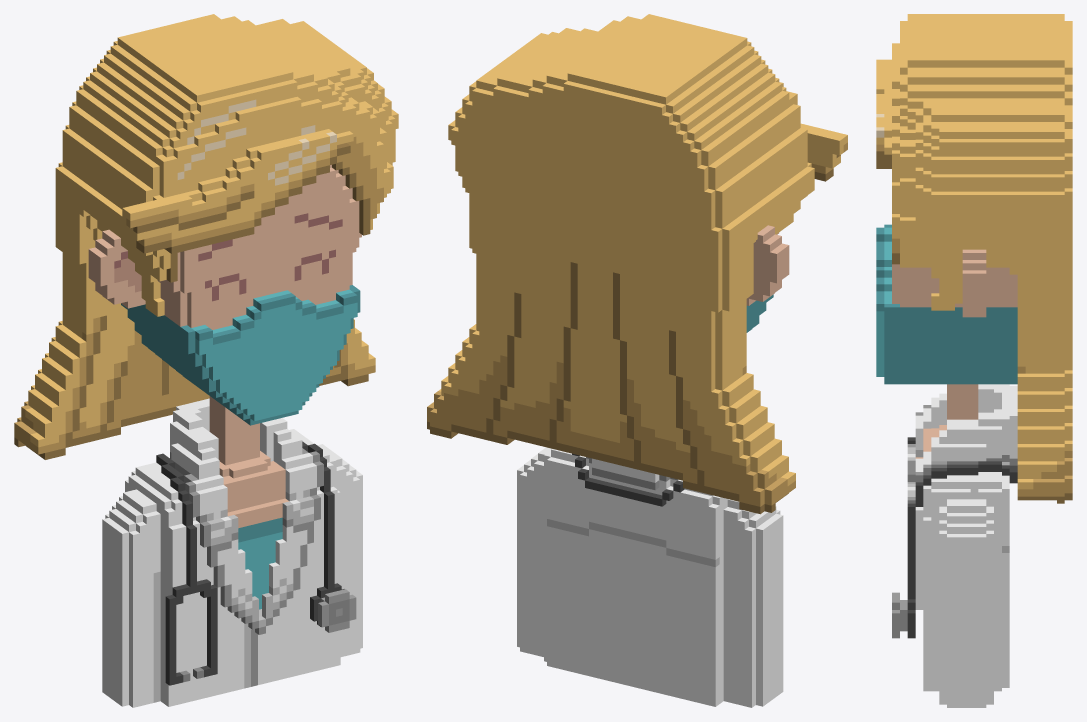
The model's file is voxel_nurse.glb.
3 renders of one model, left to right at view 1: azimuth 30°, elevation 25°; view 2: azimuth 150°, elevation 25°; view 3: azimuth 270°, elevation 25°, orthographic. The views are drawn at different scales.
Visible parts, largest first — view 1: Object_2; view 2: Object_2; view 3: Object_2.
Part boxes in pixels (left/top/right/bottom): Object_2: left=14, top=14, right=398, bottom=707; Object_2: left=427, top=14, right=847, bottom=707; Object_2: left=876, top=14, right=1072, bottom=707.
Size of the model in its own units: 4.9 by 8.5 by 2.5.
1 material, 1 textured.
